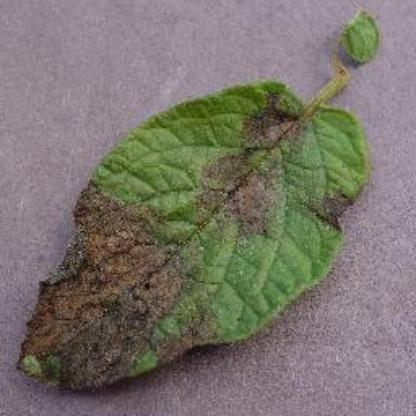Late-Blight: (20, 53, 370, 391)
